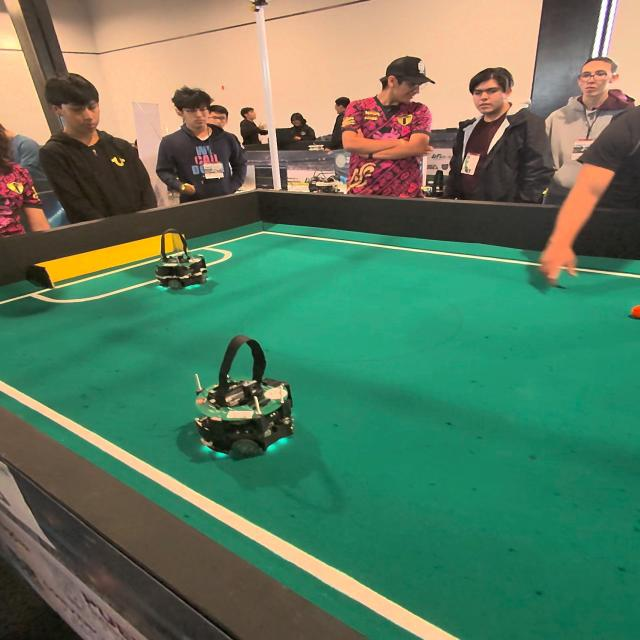Robot: (177, 328, 306, 473), (155, 229, 213, 297)
pelota: (625, 302, 640, 322)
